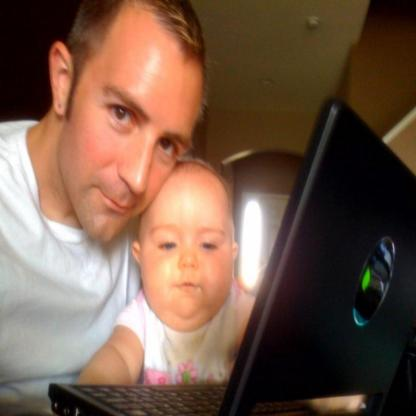board: (46, 95, 416, 415)
